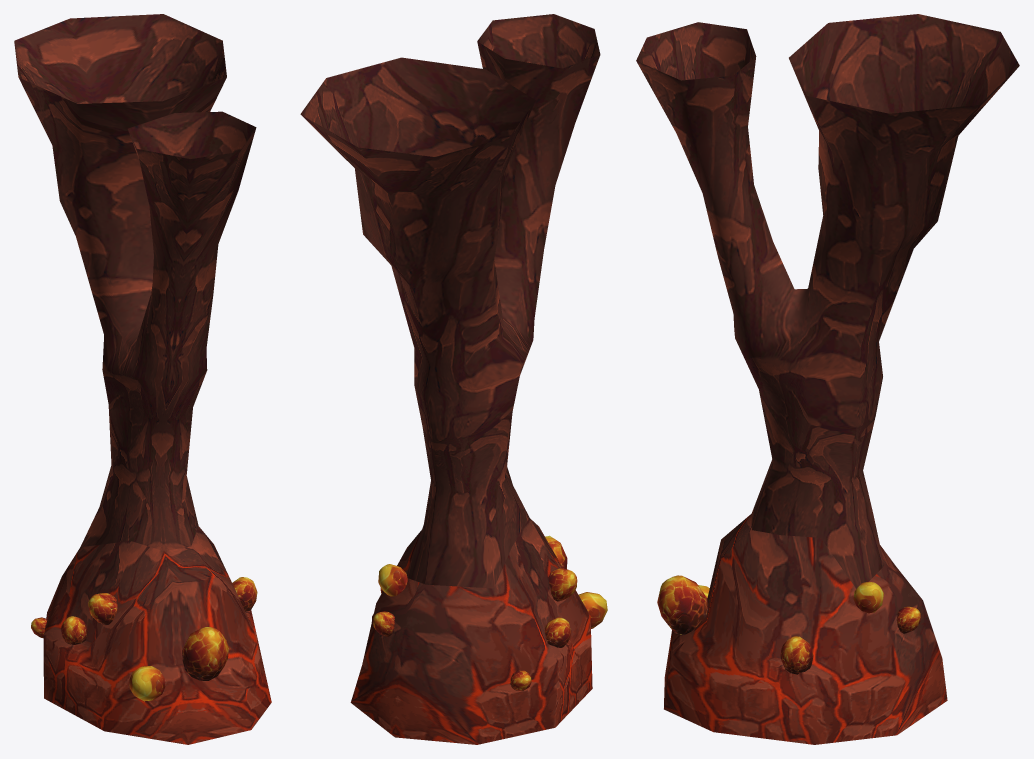
Rendered from Dragon_Pillars_02.FBX.
3 renders of one model, left to right at view 1: azimuth 30°, elevation 25°; view 2: azimuth 150°, elevation 25°; view 3: azimuth 270°, elevation 25°, orthographic. The views are drawn at different scales.
Visible parts, largest first — view 1: Dragon_Pillars_02_01, Dragon_Pillars_02_02, Dragon_Pillars_02_03; view 2: Dragon_Pillars_02_01, Dragon_Pillars_02_02, Dragon_Pillars_02_03; view 3: Dragon_Pillars_02_01, Dragon_Pillars_02_02, Dragon_Pillars_02_03.
Boxes of the visible parts, x1,y1,x2,y2 form: Dragon_Pillars_02_01: (14,14,256,550); Dragon_Pillars_02_02: (43,526,271,744); Dragon_Pillars_02_03: (31,577,257,701); Dragon_Pillars_02_01: (300,14,600,588); Dragon_Pillars_02_02: (350,518,592,744); Dragon_Pillars_02_03: (373,535,607,690); Dragon_Pillars_02_01: (636,14,1019,588); Dragon_Pillars_02_02: (664,514,947,744); Dragon_Pillars_02_03: (657,575,920,674).
Size of the model in its own units: 4.99 by 14.09 by 7.7.
